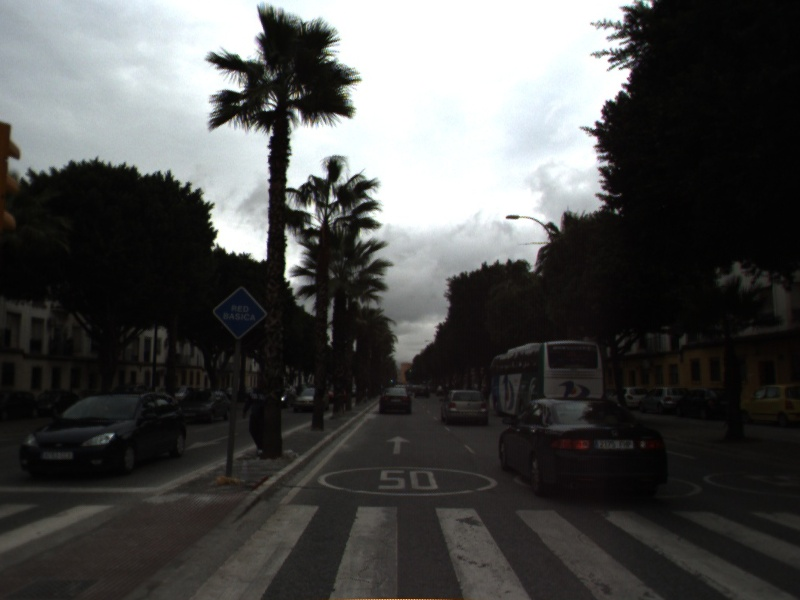STRAIGHT: (383, 433, 413, 456)
